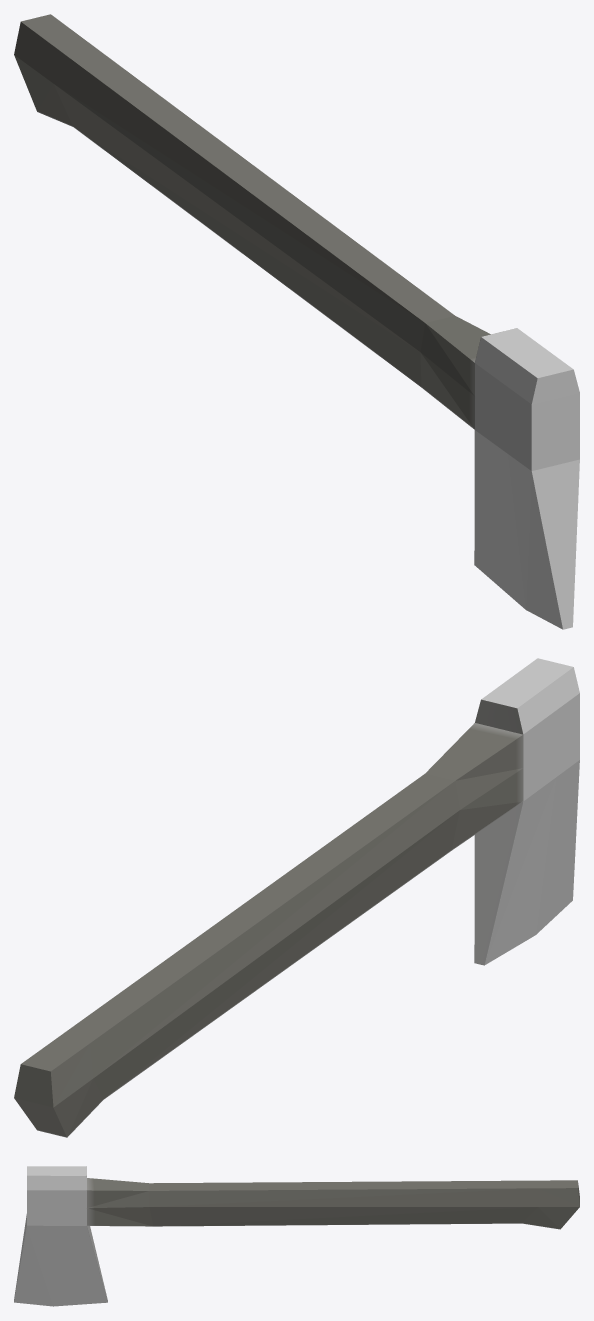
The model's file is axe.fbx.
3 renders of one model, top to bottom at view 1: azimuth 30°, elevation 25°; view 2: azimuth 150°, elevation 25°; view 3: azimuth 270°, elevation 25°, orthographic. The views are drawn at different scales.
Parts seen in each view (by area): view 1: axe_mesh; view 2: axe_mesh; view 3: axe_mesh.
Part boxes in pixels (x1=…): axe_mesh: x1=14, y1=14, x2=579, y2=629; axe_mesh: x1=14, y1=658, x2=579, y2=1137; axe_mesh: x1=14, y1=1166, x2=579, y2=1306.
Bounding box in the file's own units: 0.4849 × 2.42 × 9.26.
Materials: 2 (2 with a texture image).
